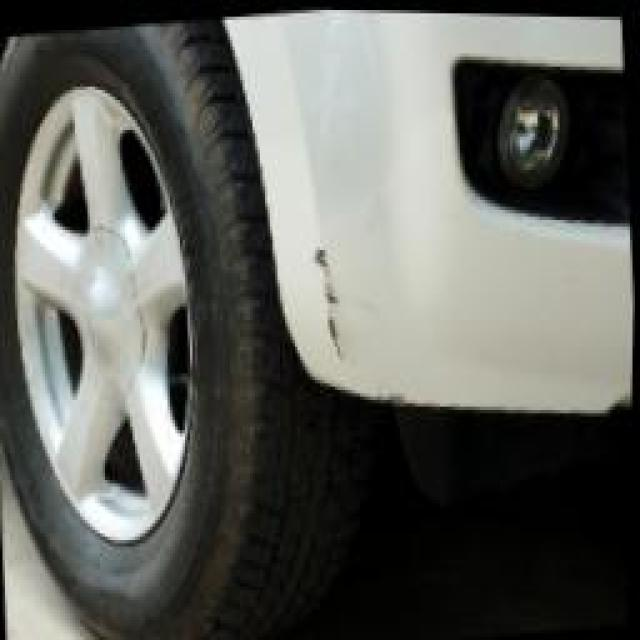Bumper: (278, 183, 398, 379)
